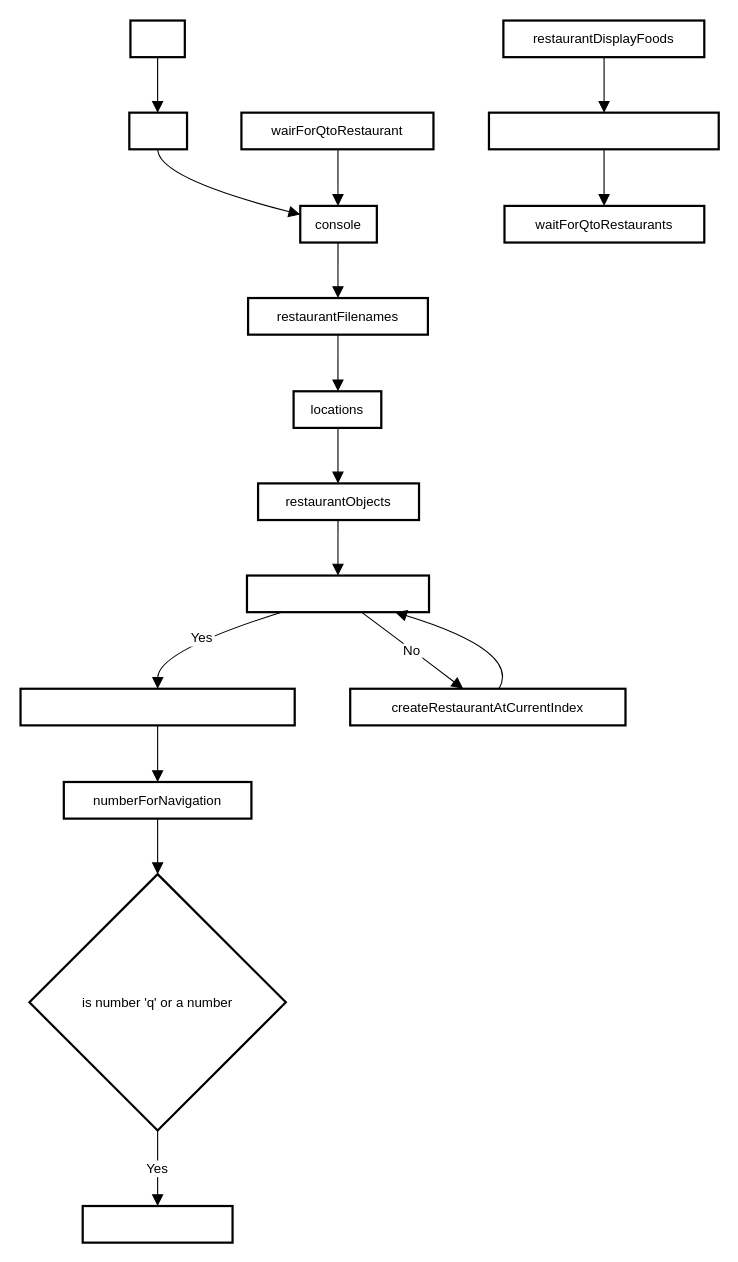
This 738x1262 diagram has some shape labels left out. The centre of each missing label's shape, as x and y in pixels:
clear: (158,130)
lastInRestaurantFiles: (337,593)
printAllRestaurantsAndLocations: (157,706)
printQtoReturnRestaurants: (603,130)
selectRestaurant: (157,1223)
